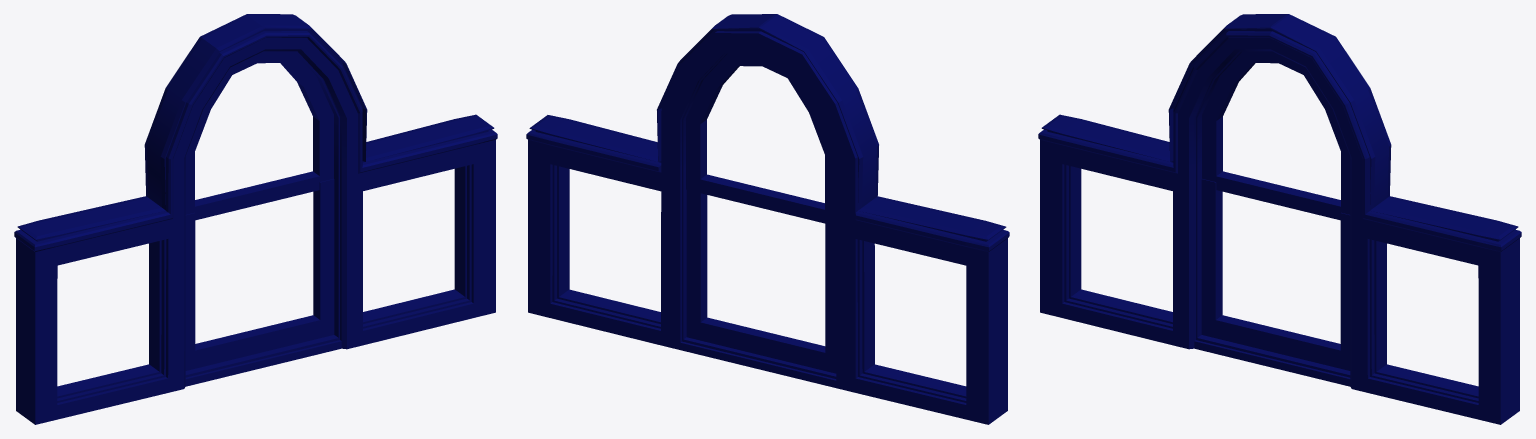
The model's file is Attic Window 1.FBX.
3 renders of one model, left to right at view 1: azimuth 30°, elevation 25°; view 2: azimuth 150°, elevation 25°; view 3: azimuth 330°, elevation 25°, orthographic.
Parts seen in each view (by area): view 1: Cylinder001; view 2: Cylinder001; view 3: Cylinder001.
Boxes of the visible parts, <box> form: Cylinder001: <box>14,14,497,424</box>; Cylinder001: <box>526,14,1009,424</box>; Cylinder001: <box>1038,14,1521,424</box>.
Size of the model in its own units: 63.82 by 44.98 by 5.04.
